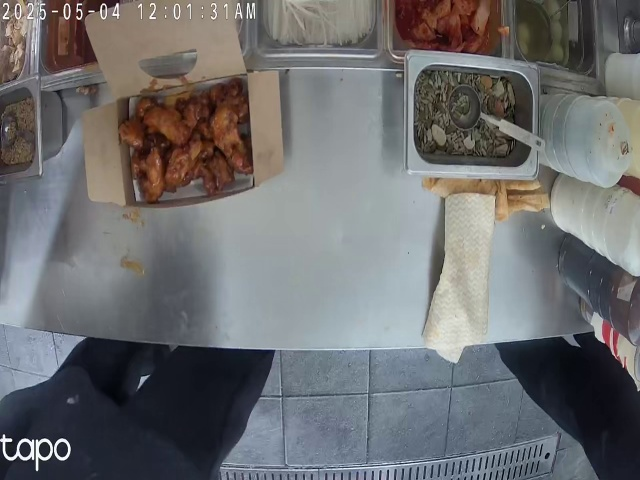delivery box: (70, 3, 279, 194)
food: (125, 100, 251, 192)
